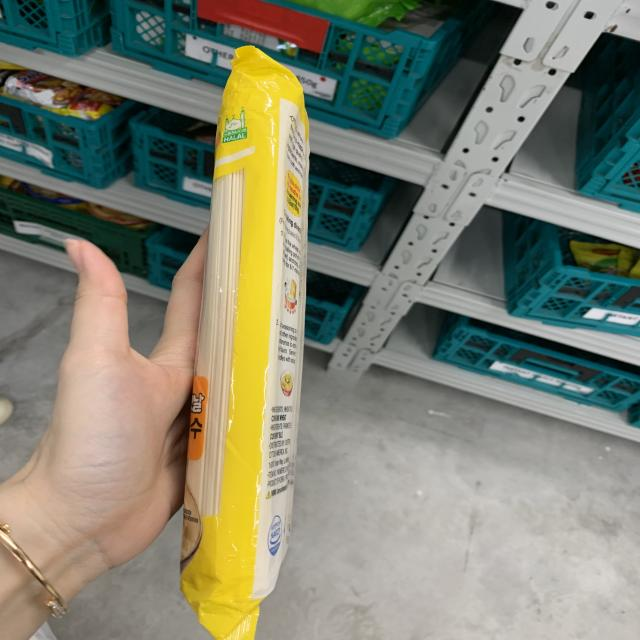object_name: (203, 40, 301, 618)
